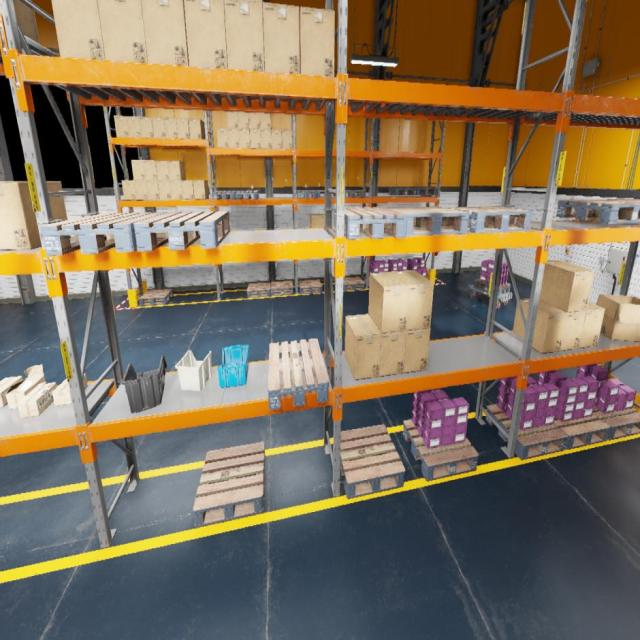box: (0, 180, 70, 250), (51, 0, 106, 60), (97, 0, 148, 63), (142, 0, 188, 66), (513, 298, 567, 354), (184, 0, 227, 69), (540, 260, 594, 313), (224, 0, 264, 71), (263, 2, 300, 74), (344, 314, 382, 380), (368, 272, 409, 333), (393, 270, 434, 330), (300, 7, 335, 76), (540, 300, 586, 352), (368, 314, 406, 376), (596, 294, 640, 341), (5, 364, 45, 409), (17, 382, 57, 417), (12, 0, 40, 44), (404, 328, 430, 373), (52, 374, 88, 406), (580, 302, 604, 348), (0, 375, 22, 407), (167, 160, 186, 180), (189, 118, 205, 140), (126, 116, 142, 138), (139, 116, 154, 138), (193, 180, 209, 200), (121, 180, 136, 200), (176, 118, 190, 139), (164, 117, 178, 138), (114, 116, 128, 137), (152, 116, 165, 138), (133, 181, 148, 200), (131, 160, 145, 180), (181, 180, 194, 200), (146, 180, 159, 200), (156, 160, 169, 180), (144, 160, 157, 180), (158, 181, 171, 200), (170, 180, 182, 200), (228, 128, 240, 148), (217, 127, 228, 148), (239, 128, 250, 148), (260, 130, 272, 148), (271, 130, 282, 149), (250, 130, 261, 148), (282, 130, 292, 149), (249, 112, 260, 129), (260, 113, 271, 129), (238, 112, 249, 128), (227, 112, 238, 128), (310, 214, 320, 228), (319, 214, 324, 227)
pallets: (193, 442, 265, 528), (40, 212, 167, 255), (341, 424, 405, 499), (403, 419, 478, 481), (486, 404, 567, 460), (268, 338, 329, 410), (133, 211, 230, 251), (384, 206, 470, 235), (334, 207, 408, 239), (448, 206, 532, 233), (547, 414, 610, 449), (556, 200, 640, 223), (588, 404, 640, 440), (473, 279, 511, 296), (138, 288, 173, 306), (606, 199, 640, 217), (270, 281, 294, 296), (299, 279, 323, 294), (247, 282, 270, 297), (343, 277, 365, 291), (212, 191, 237, 200), (236, 190, 258, 200), (388, 188, 416, 195), (412, 188, 436, 195), (297, 190, 317, 198), (316, 190, 336, 198), (345, 190, 364, 198), (365, 276, 370, 286), (425, 277, 429, 279)
